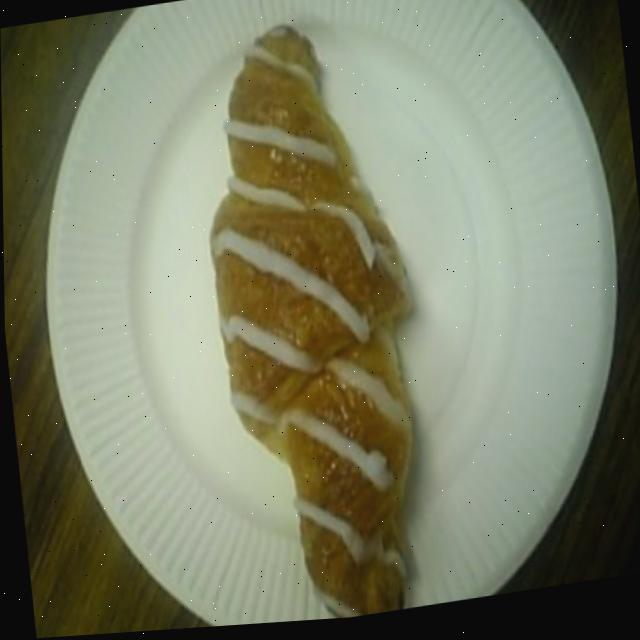面包点心: (180, 0, 444, 631)
